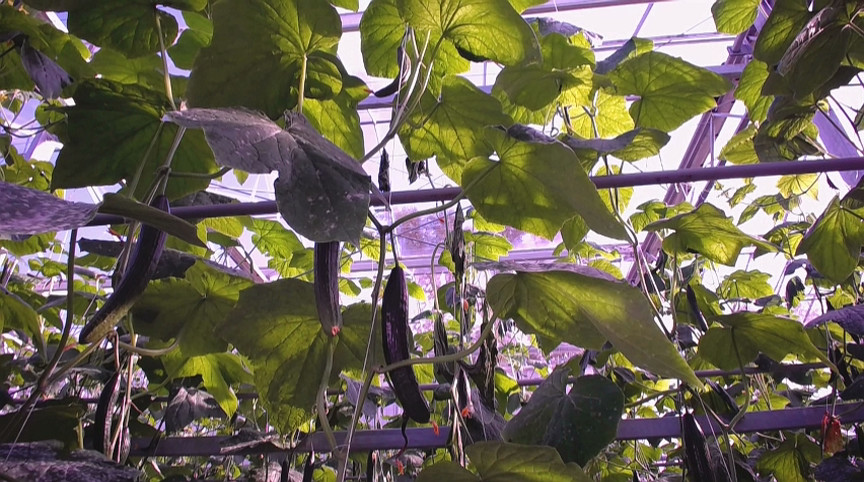cucumber: (80, 198, 170, 344), (379, 268, 432, 424), (313, 240, 342, 337), (681, 413, 718, 482), (96, 371, 126, 456)
